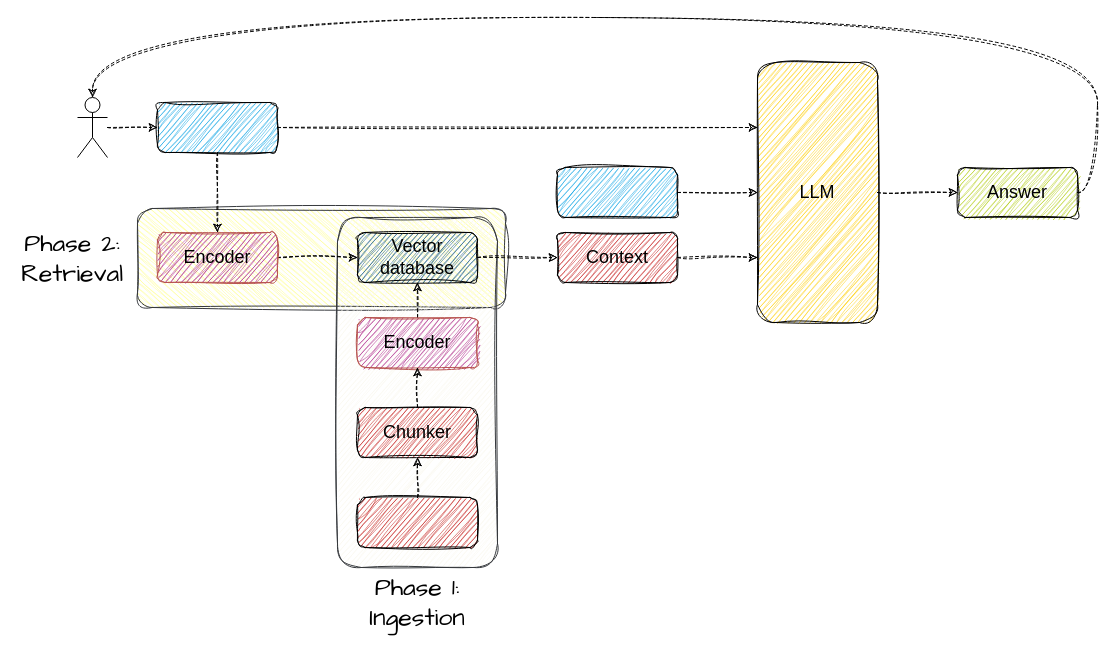
Some shapes in this 1115 by 655 pixel diagram are drawn without their labels. The shapes that lost their labels are listed below. From the top down, each one's centre as x and y in pixels, then its label:
At point (92, 127): "User".
At point (217, 127): "Question".
At point (617, 192): "System Prompt".
At point (417, 522): "Documents".
